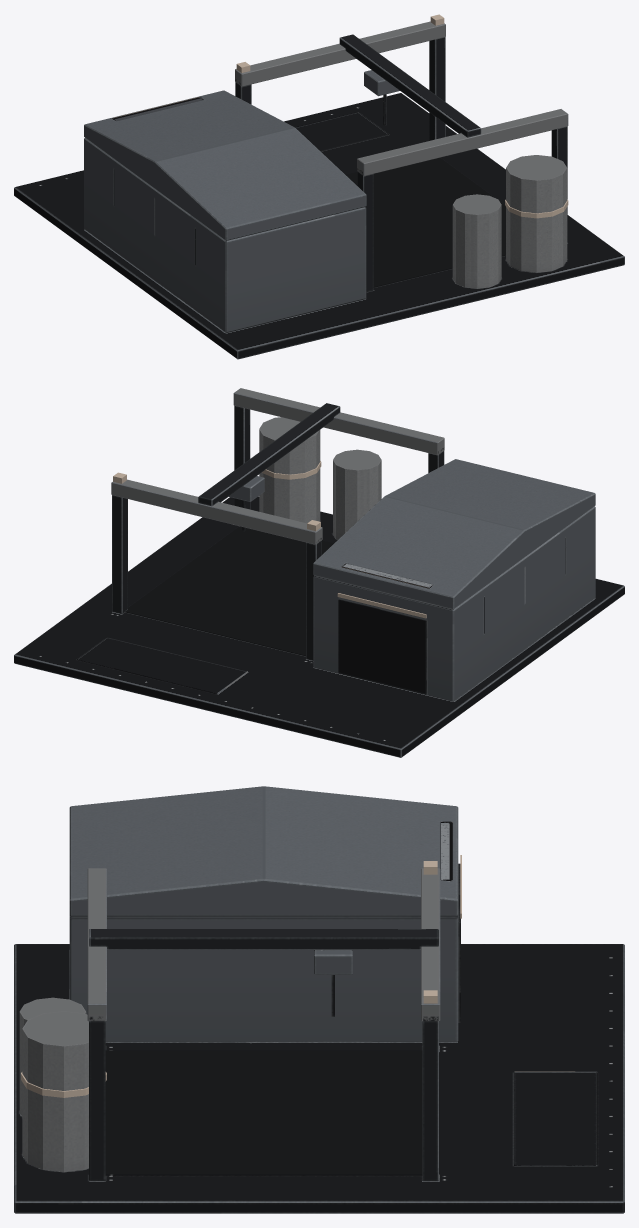
The model's file is chs_vehplant.fbx.
3 renders of one model, top to bottom at view 1: azimuth 30°, elevation 25°; view 2: azimuth 150°, elevation 25°; view 3: azimuth 270°, elevation 25°, orthographic. The views are drawn at different scales.
Parts seen in each view (by area): view 1: base_bar; view 2: base_bar; view 3: base_bar.
Part boxes in pixels (box(x1,y1,x2,y2)): base_bar: box(14, 14, 624, 359); base_bar: box(14, 388, 624, 757); base_bar: box(14, 786, 624, 1213).
Size of the model in its own units: 2200 by 990 by 2200.
Materials: 2 (2 with a texture image).
